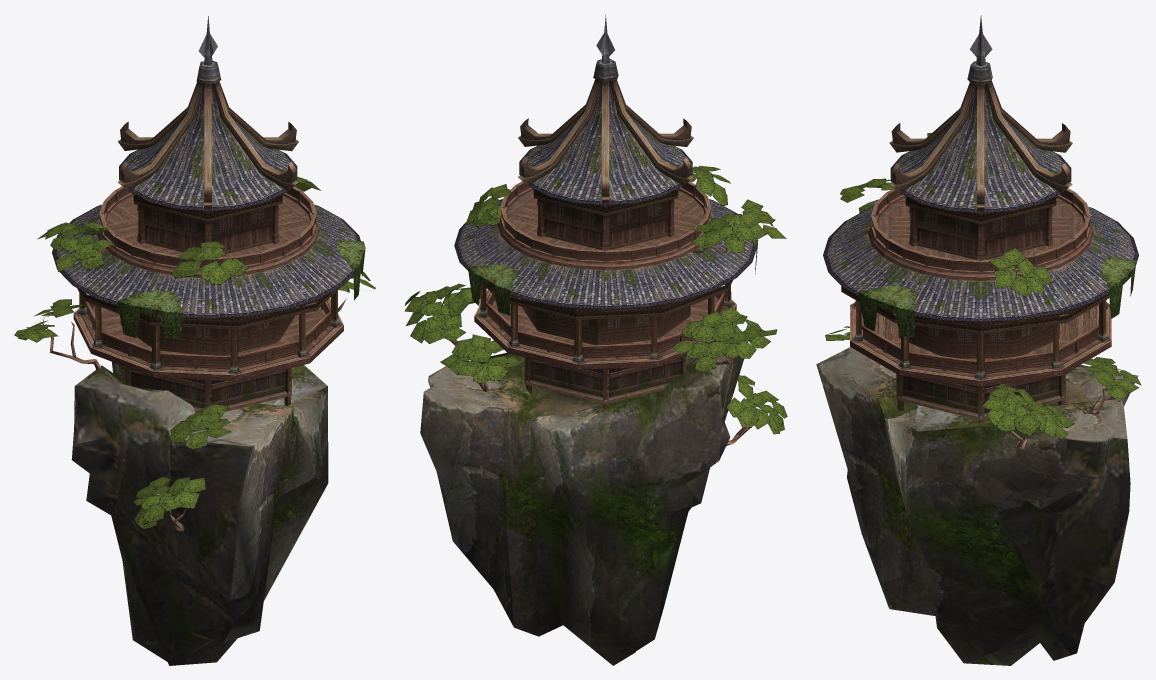
File: xinshoubujian18.FBX
The picture shows the model from 3 angles, left to right: view 1: azimuth 30°, elevation 25°; view 2: azimuth 150°, elevation 25°; view 3: azimuth 270°, elevation 25°; orthographic projection. The views are drawn at different scales.
Visible parts, largest first — view 1: Mesh_0093, Mesh_0161; view 2: Mesh_0093, Mesh_0161; view 3: Mesh_0093, Mesh_0161.
Boxes of the visible parts, bbox=[...] form: Mesh_0093: bbox=[38, 16, 360, 665]; Mesh_0161: bbox=[14, 34, 375, 529]; Mesh_0093: bbox=[420, 14, 758, 665]; Mesh_0161: bbox=[404, 33, 787, 434]; Mesh_0093: bbox=[816, 15, 1138, 665]; Mesh_0161: bbox=[825, 34, 1141, 439].
Bounding box in the file's own units: 46.73 × 80.15 × 35.64.
